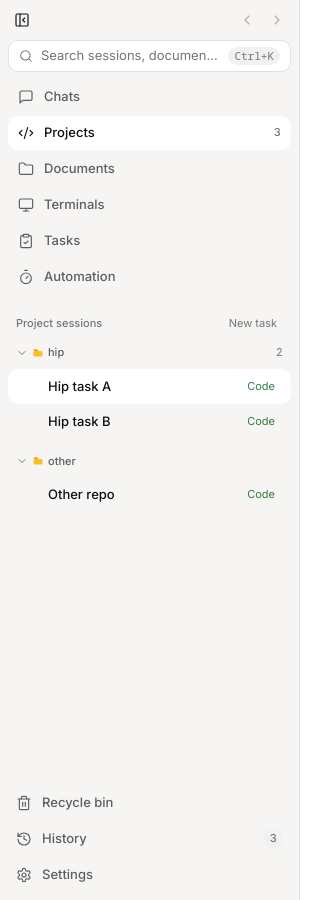
Test: AppSidebar › collapses and expands conversations under a project group
Expected: the button with test id "sidebar-session-code-hip-1" is shown, [8,369,291,404]
Expected: the button with test id "sidebar-session-code-hip-2" is shown, [8,404,291,440]
Click the button with test id "sidebar-project-group-header-/Users/x/data/hip" at [22, 353], box [8,339,291,367]
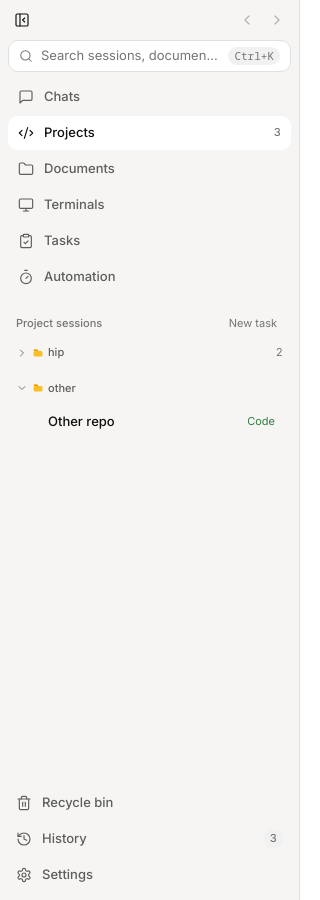
Expected: the button with test id "sidebar-session-code-other" is shown, [8,404,291,440]
Result: the button with test id "sidebar-session-code-hip-1" is gone
Result: the button with test id "sidebar-session-code-hip-2" is gone
Click the button with test id "sidebar-project-group-header-/Users/x/data/hip" at [22, 353], box [8,339,291,367]
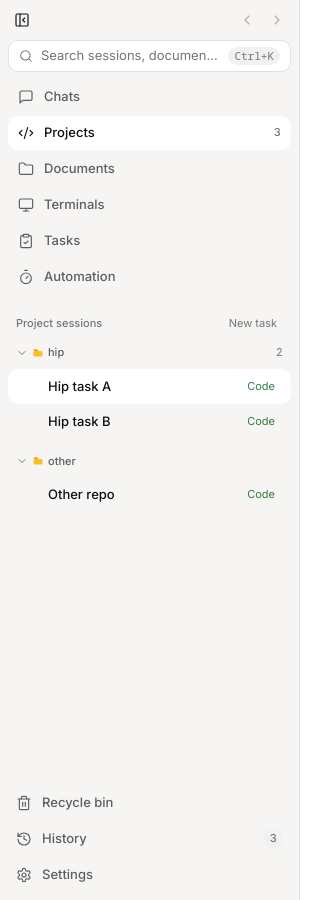
Result: the button with test id "sidebar-session-code-hip-1" is shown at [8,369,291,404]
Result: the button with test id "sidebar-session-code-hip-2" is shown at [8,404,291,440]
